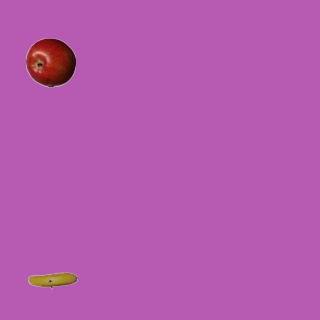Apple Braeburn: (25, 37, 75, 87)
Banana: (27, 255, 77, 305)
